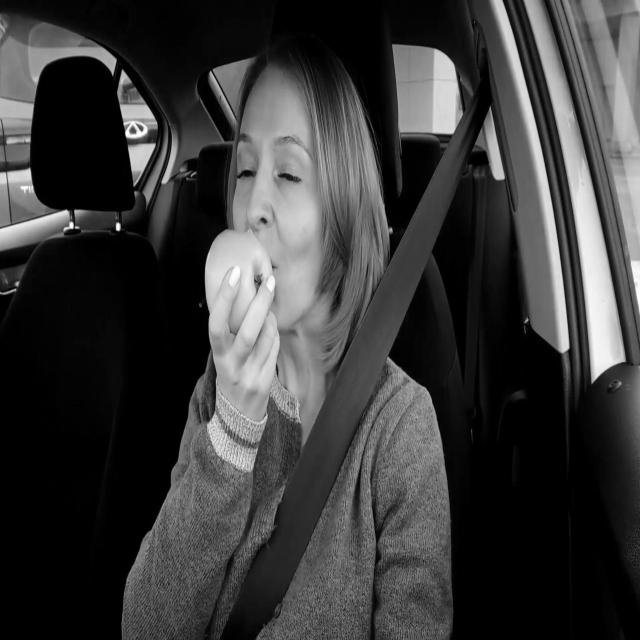Eating: (203, 224, 280, 338)
Seatbelt: (217, 77, 492, 640)
